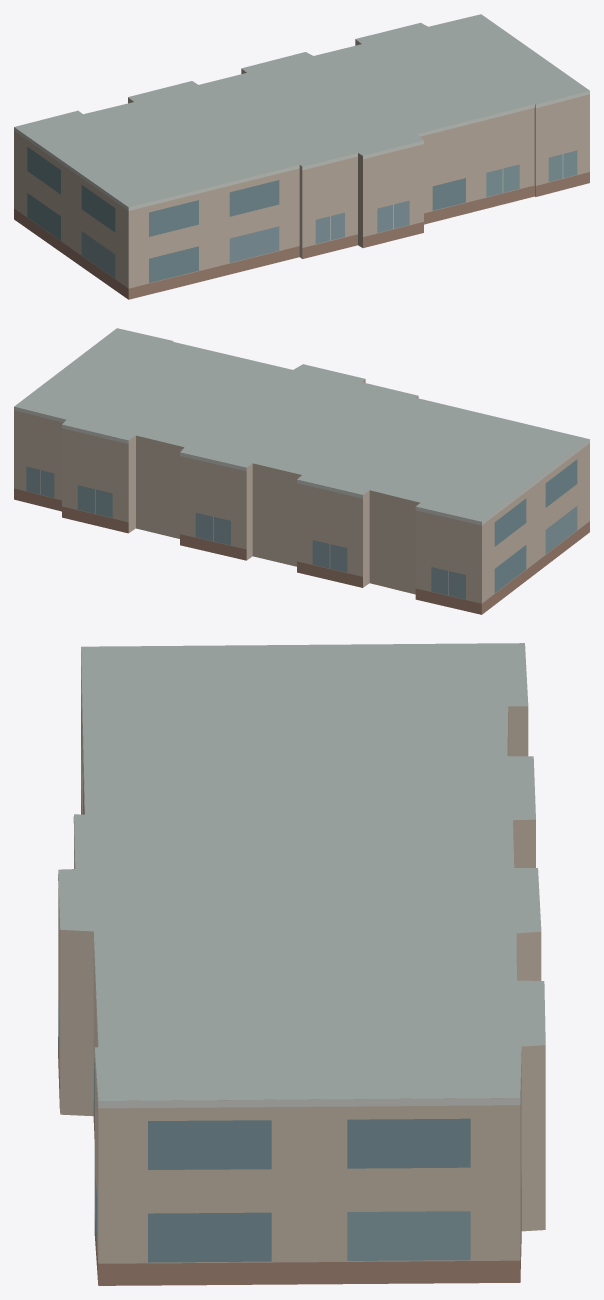
The model's file is survey-upis-32896299.glb.
3 renders of one model, top to bottom at view 1: azimuth 30°, elevation 25°; view 2: azimuth 150°, elevation 25°; view 3: azimuth 270°, elevation 25°, orthographic. The views are drawn at different scales.
Visible parts, largest first — view 1: survey-upis-32896299.tmp; view 2: survey-upis-32896299.tmp; view 3: survey-upis-32896299.tmp.
Part boxes in pixels (x1,y1,x2,y2): survey-upis-32896299.tmp: (14, 14, 589, 299); survey-upis-32896299.tmp: (14, 328, 589, 614); survey-upis-32896299.tmp: (58, 643, 545, 1285).
Bounding box in the file's own units: 32.42 × 6.1 × 14.59.
